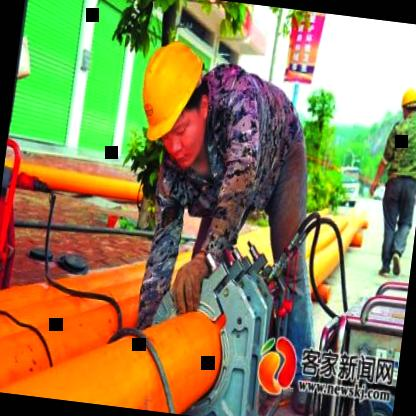helmet: (126, 26, 228, 178), (393, 83, 416, 127)
